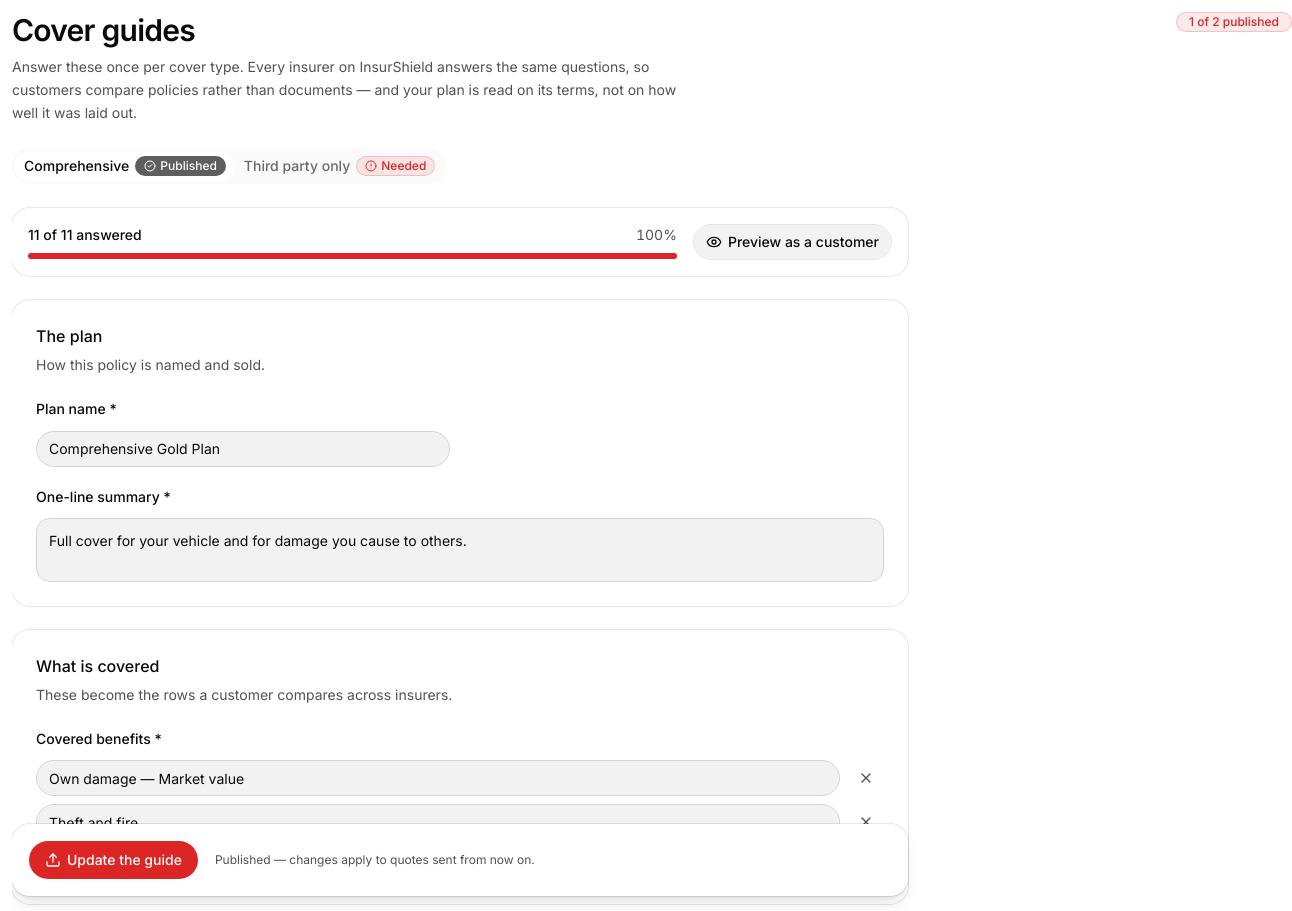
Scenario: CoverGuideLibrary › starts the other cover type from the same blank questions
The image size is (1292, 911).
What coordinates should you click on to do the following:
click the tab "Third party only Needed"
I would click on:
 (340, 166)
Its box is [235, 152, 444, 181].
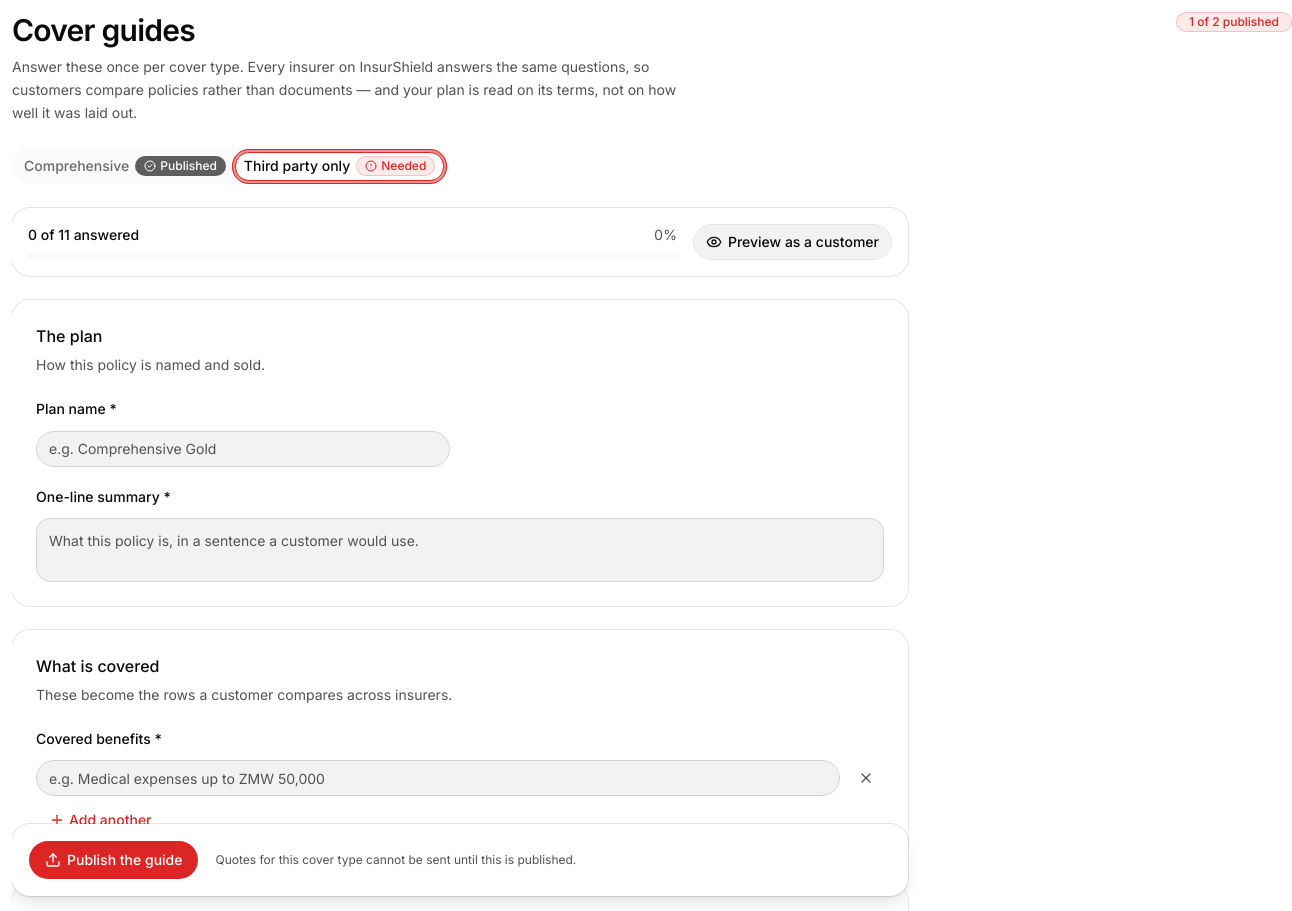
Check: the field labelled "Plan name *" is empty, box [36, 430, 450, 466]
Check: the text "0 of 11 answered" is shown, box [28, 225, 139, 245]
Check: the button "Publish the guide" is shown, box [28, 840, 200, 880]
